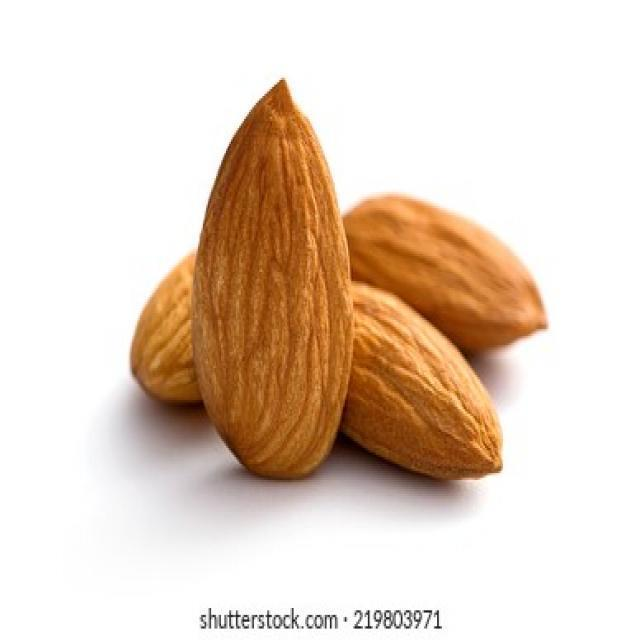almond: (192, 77, 352, 480), (335, 278, 508, 482), (340, 192, 547, 353), (130, 243, 203, 412)
